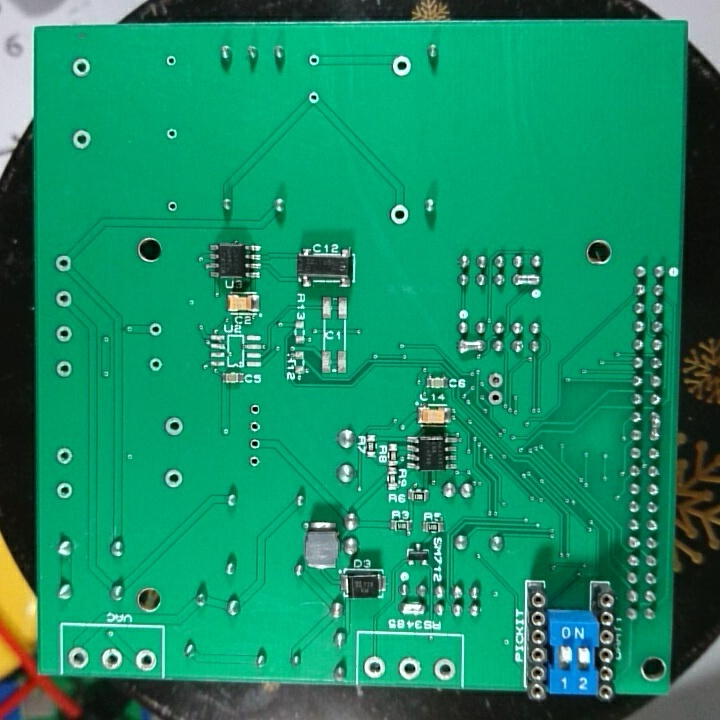F: (97, 645, 126, 671), (430, 655, 456, 682), (397, 654, 425, 679), (361, 652, 387, 678), (66, 646, 93, 671), (70, 55, 96, 80), (132, 647, 158, 672), (390, 54, 414, 79), (70, 127, 93, 152), (389, 200, 410, 227), (162, 413, 185, 436), (161, 466, 184, 489), (53, 289, 76, 310), (53, 253, 74, 275), (54, 323, 75, 345), (55, 479, 73, 504), (54, 446, 75, 467), (484, 386, 505, 407), (54, 358, 74, 380), (486, 369, 505, 389), (147, 319, 164, 339), (164, 124, 181, 143), (247, 401, 264, 418), (247, 435, 264, 452), (147, 354, 162, 373), (307, 88, 321, 107), (247, 452, 263, 468), (164, 199, 181, 214), (164, 53, 179, 70), (247, 420, 264, 435), (307, 52, 321, 69)
P: (510, 271, 544, 291), (399, 598, 427, 620), (456, 336, 486, 355), (647, 409, 662, 445)
